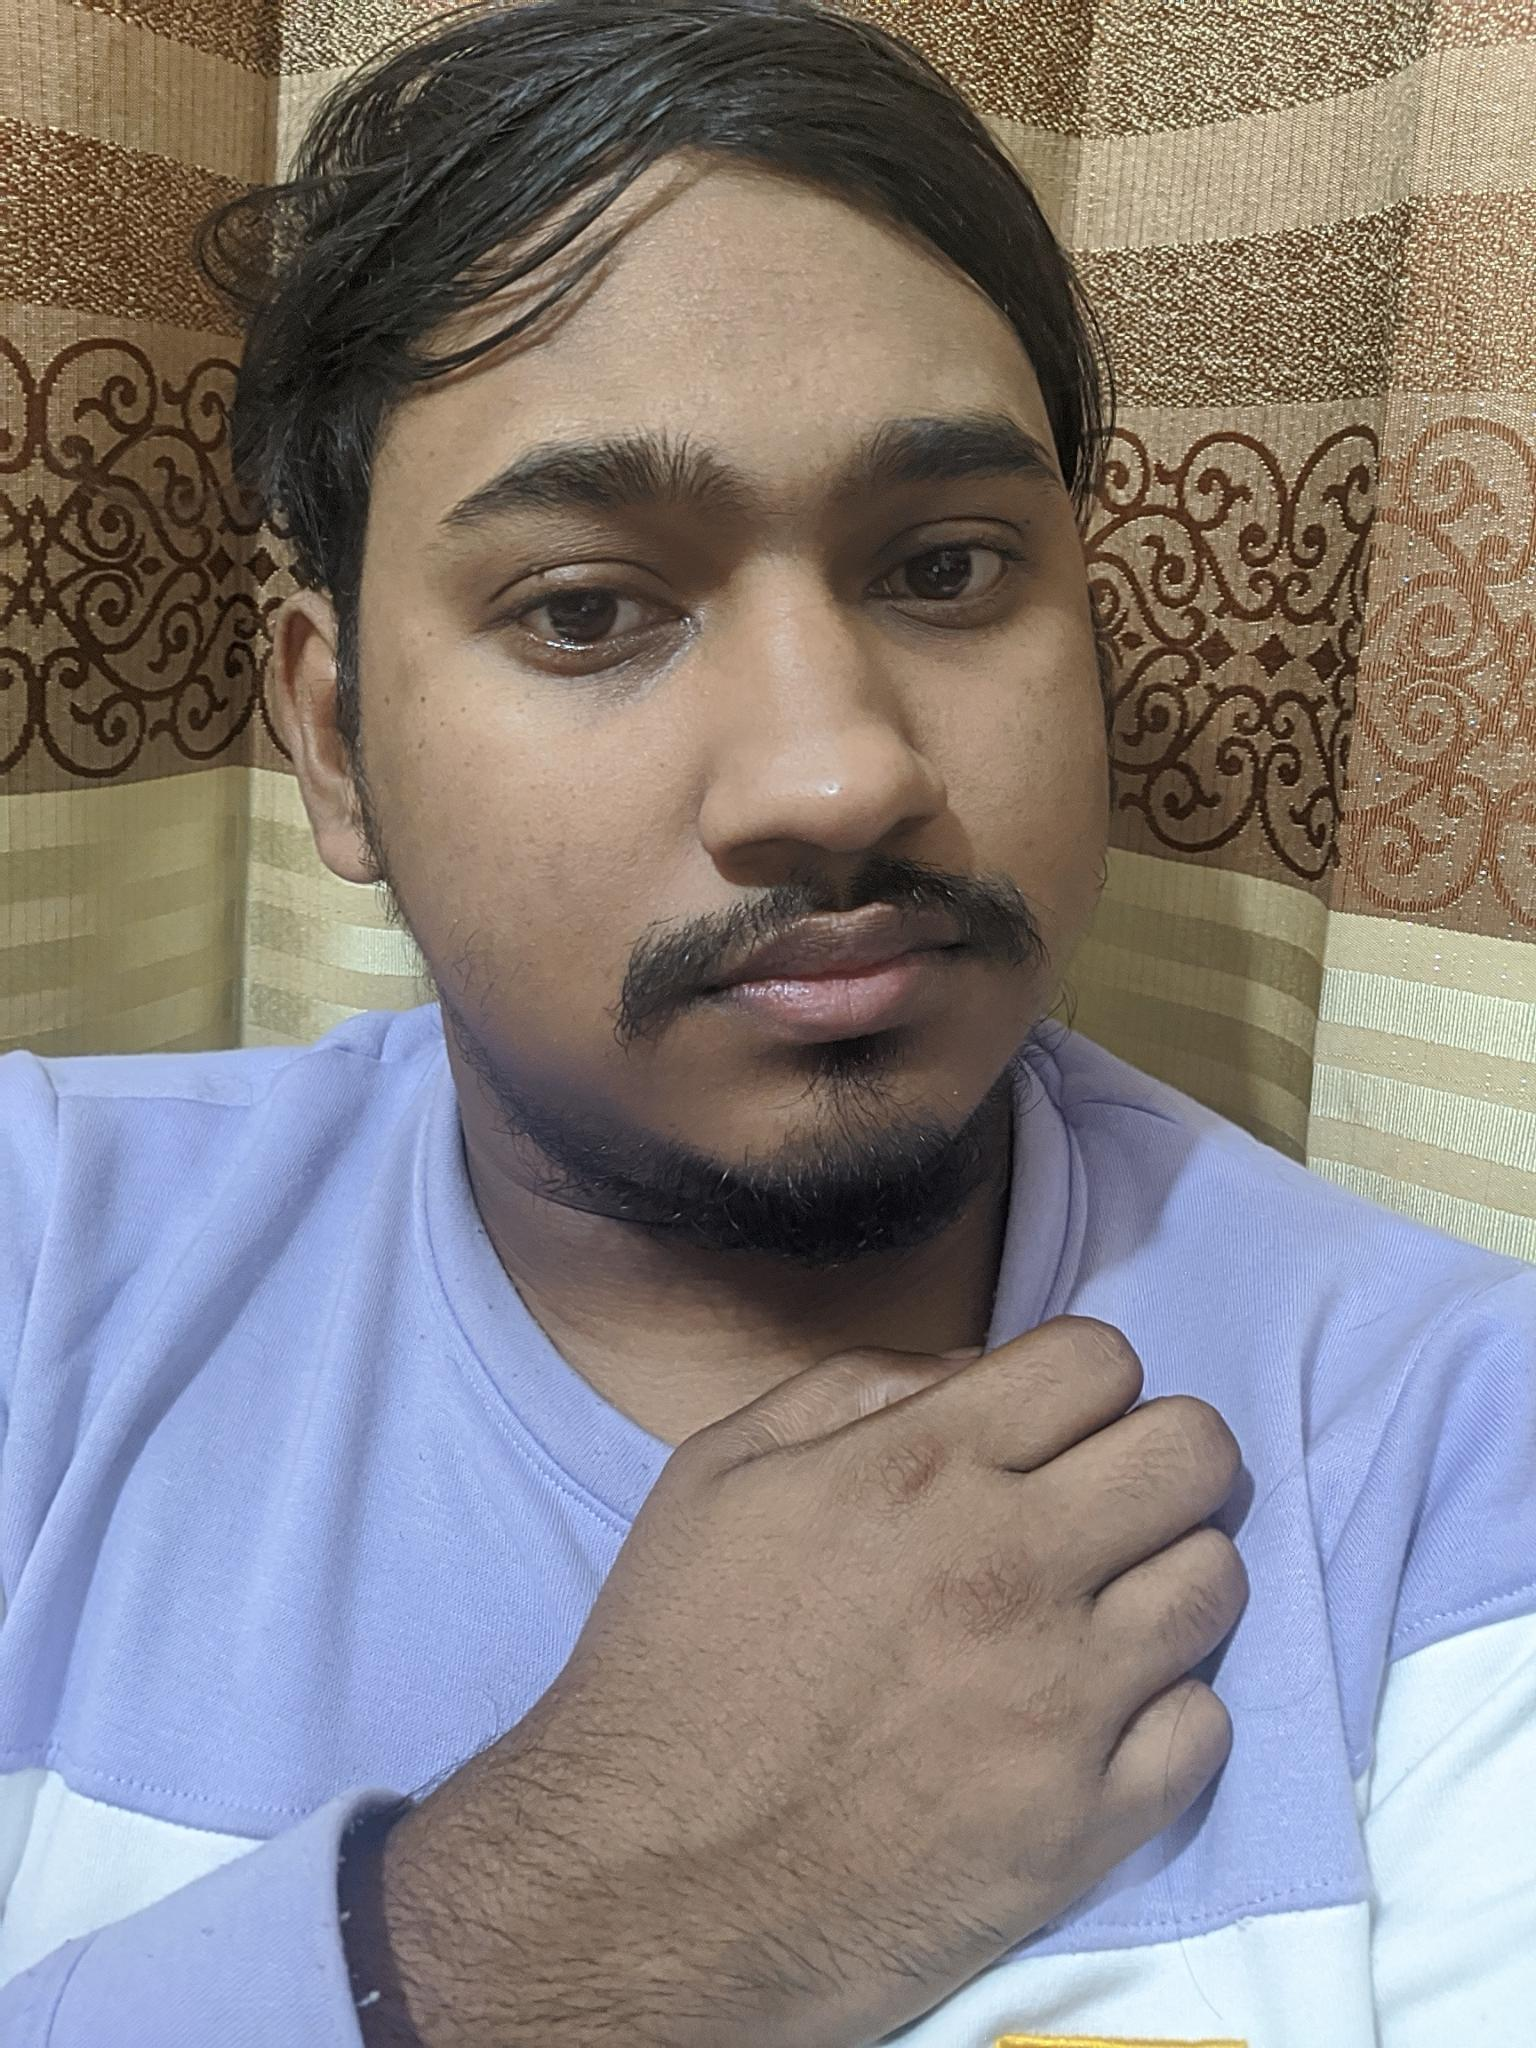Neutral: (387, 313, 1134, 1229)
